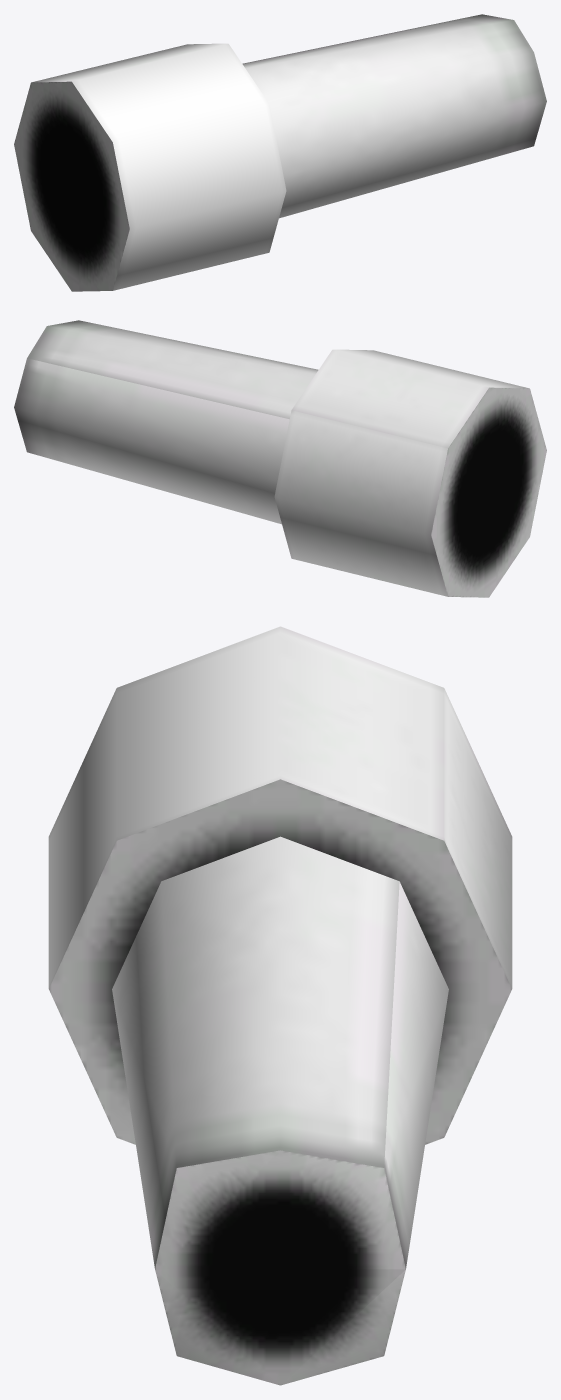
Rendered from Electric_Pipe_16.FBX.
3 views of the same model, one above another, from view 1: azimuth 30°, elevation 25°; view 2: azimuth 150°, elevation 25°; view 3: azimuth 270°, elevation 25° (orthographic). The views are drawn at different scales.
Parts seen in each view (by area): view 1: Electric_Pipe_16; view 2: Electric_Pipe_16; view 3: Electric_Pipe_16.
Part boxes in pixels (x1,y1,x2,y2): Electric_Pipe_16: [14, 14, 546, 291]; Electric_Pipe_16: [14, 320, 546, 597]; Electric_Pipe_16: [48, 626, 512, 1385].
Bounding box in the file's own units: 16.56 × 7.49 × 7.49.
